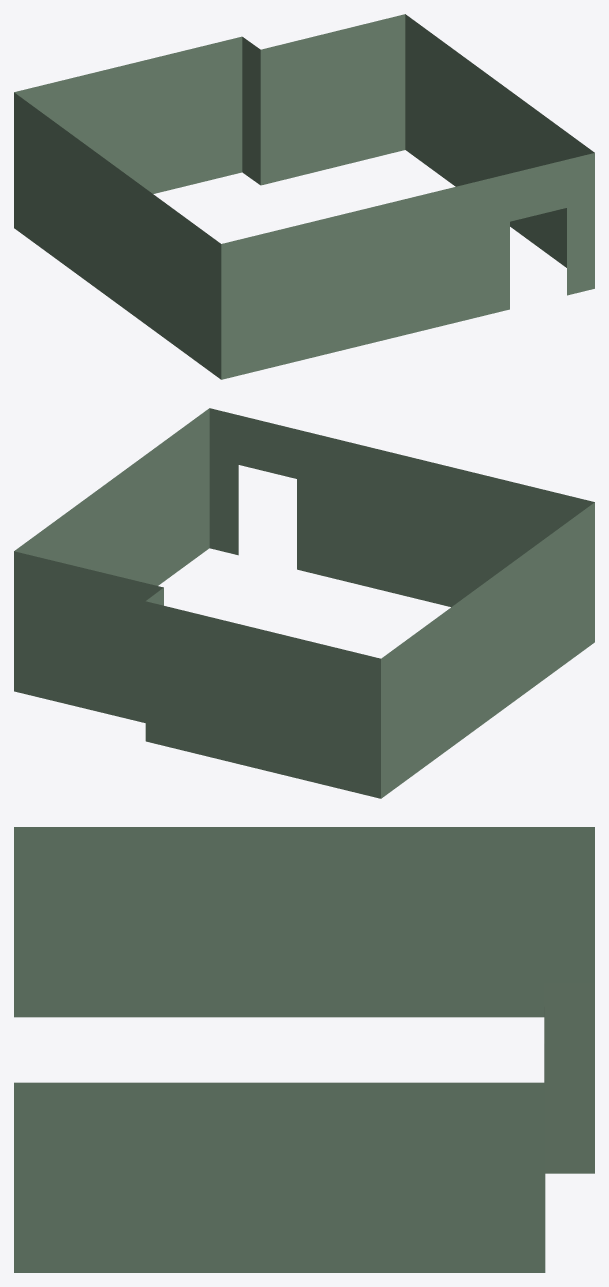
Rendered from ParedBase.fbx.
The picture shows the model from 3 angles, top to bottom: view 1: azimuth 30°, elevation 25°; view 2: azimuth 150°, elevation 25°; view 3: azimuth 270°, elevation 25°; orthographic projection. The views are drawn at different scales.
Parts seen in each view (by area): view 1: paredBase; view 2: paredBase; view 3: paredBase.
Part boxes in pixels (bbox=[...]): paredBase: bbox=[14, 14, 594, 379]; paredBase: bbox=[14, 408, 594, 798]; paredBase: bbox=[14, 827, 594, 1272].
Size of the model in its own units: 922 by 320 by 886.
